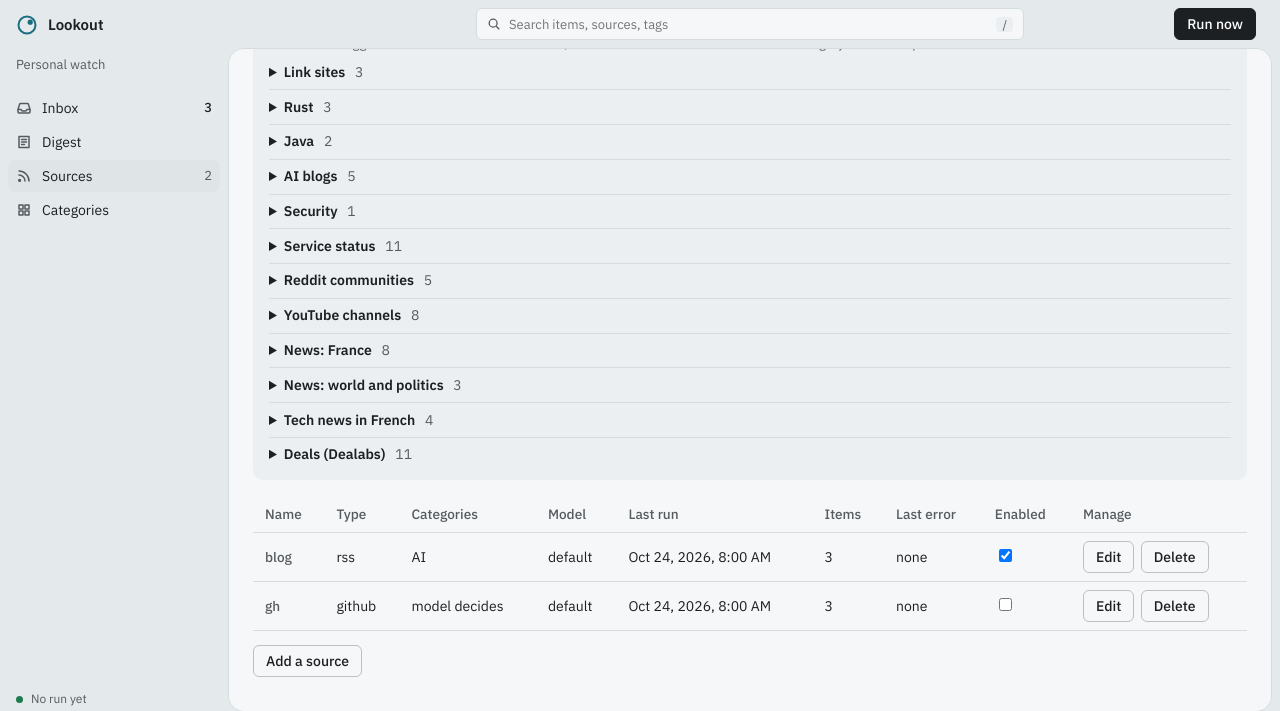
Test: sources › creates a category from the form, ticks it and files the source in it
(page scrolled)
Click the button "Add a source": (308, 661) [253,645,362,677]
(page scrolled)
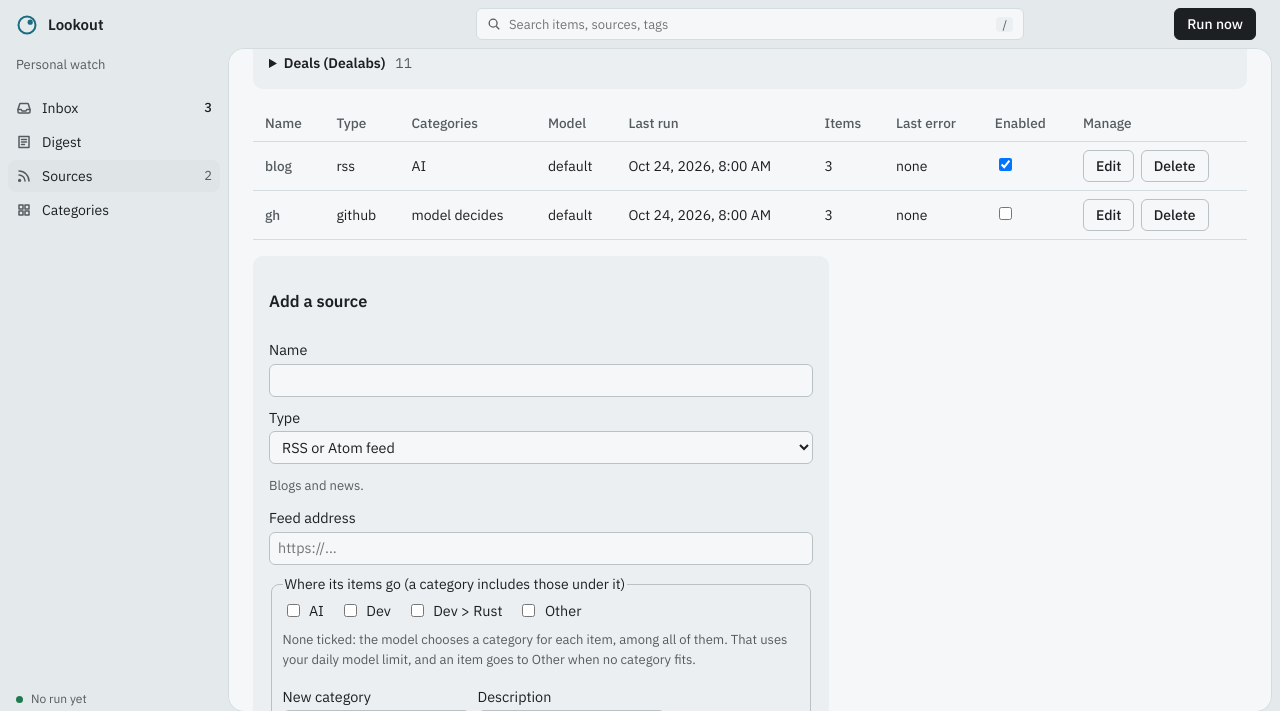
In the field labelled "Name": (541, 380) [269,364,813,397], type "moto"
In the field labelled "Feed address": (541, 548) [269,532,813,565], type "https://moto.test/feed"
(page scrolled)
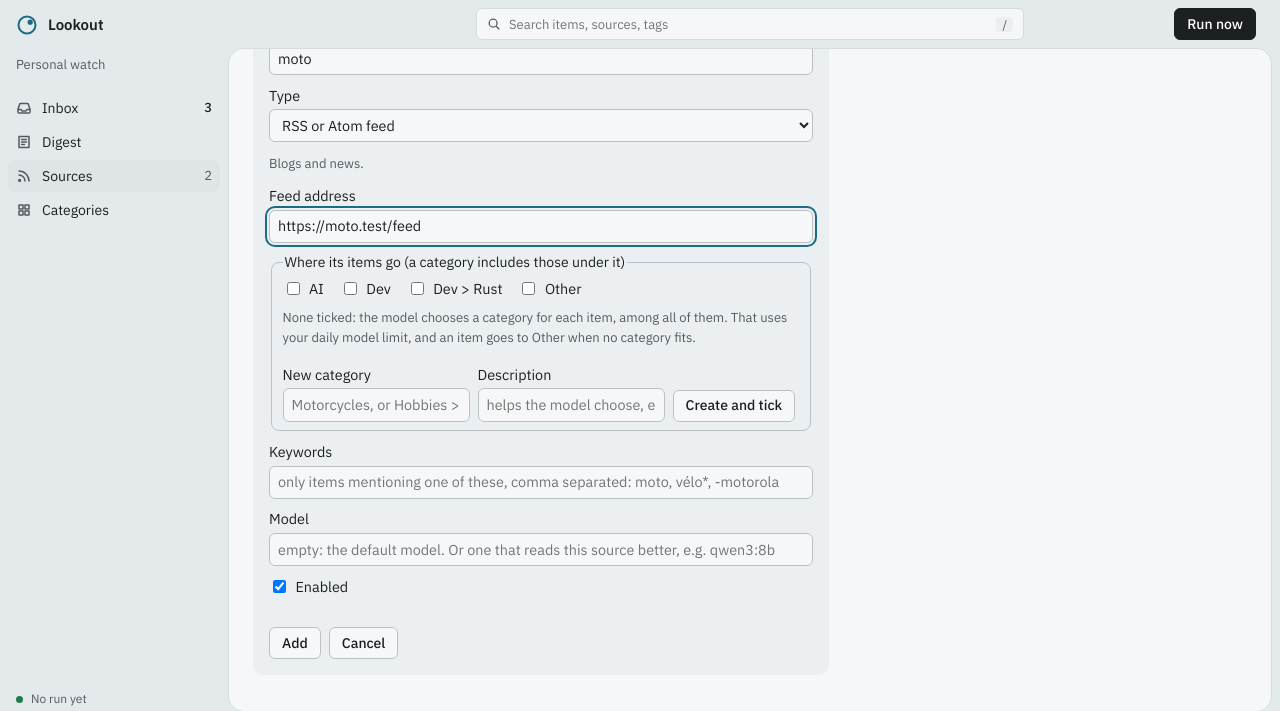
In the field labelled "New category": (376, 405) [282,388,470,422], type "Hobbies > Motorcycles"
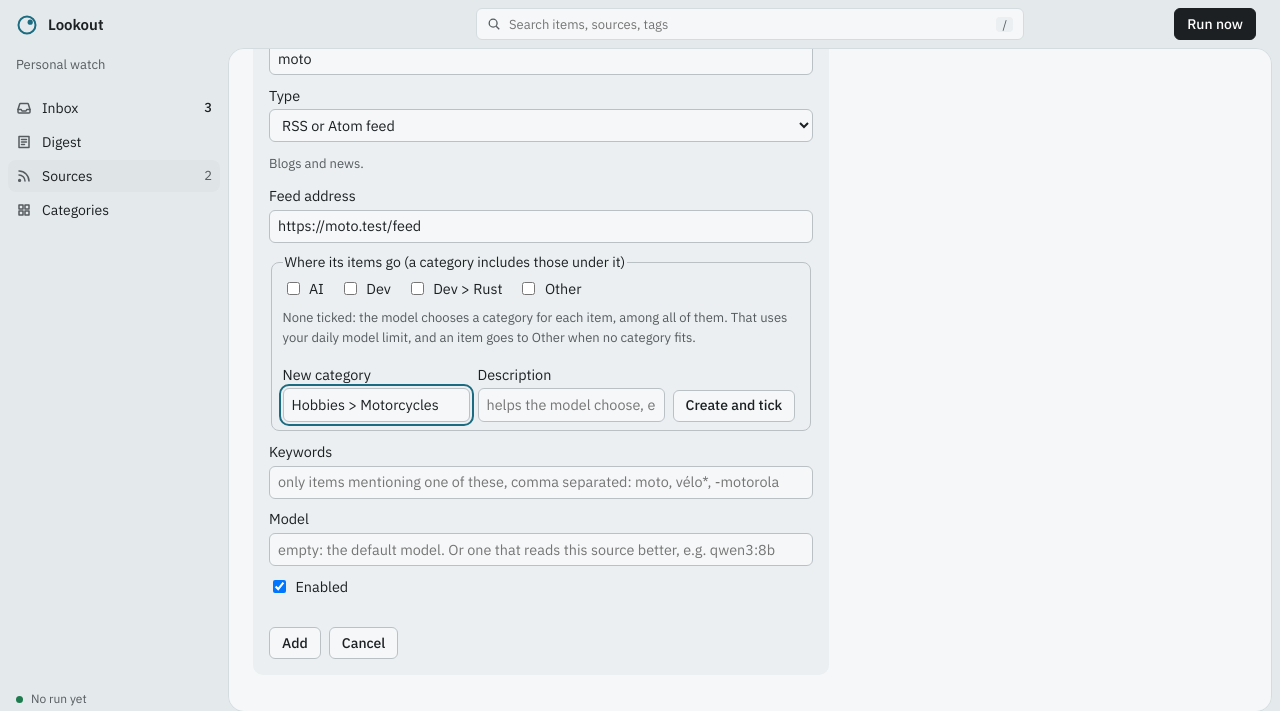
In the field labelled "Description": (571, 405) [478,388,664,422], type "riding and my CB750"
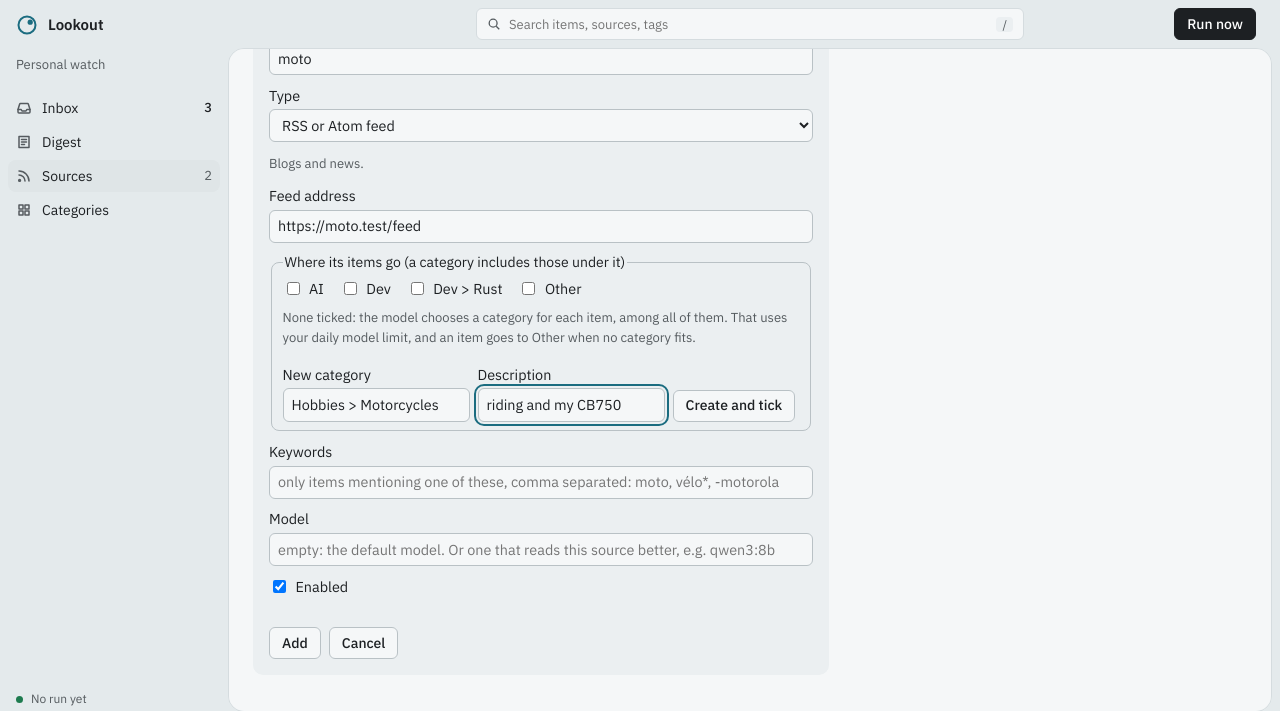
Click the button "Create and tick": (734, 406) [672,390,795,422]
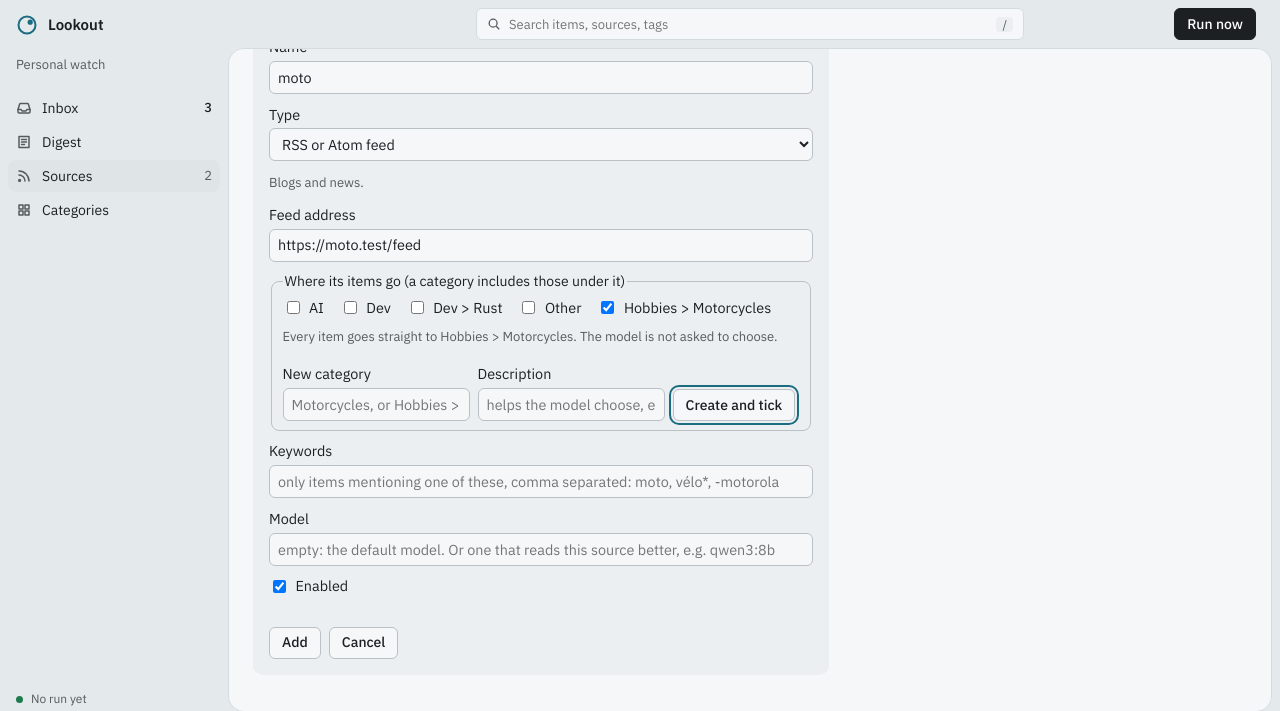
Expected: the checkbox labelled "Hobbies > Motorcycles" is checked, [602,302,614,314]
Expected: the field labelled "New category" is empty, [282,388,470,421]
Expected: the text "Every item goes straight to Hobbies > Motorcycles. The model is not asked to choose." is shown, [282,328,778,345]
Click the button "Add": (295, 643) [269,627,321,659]
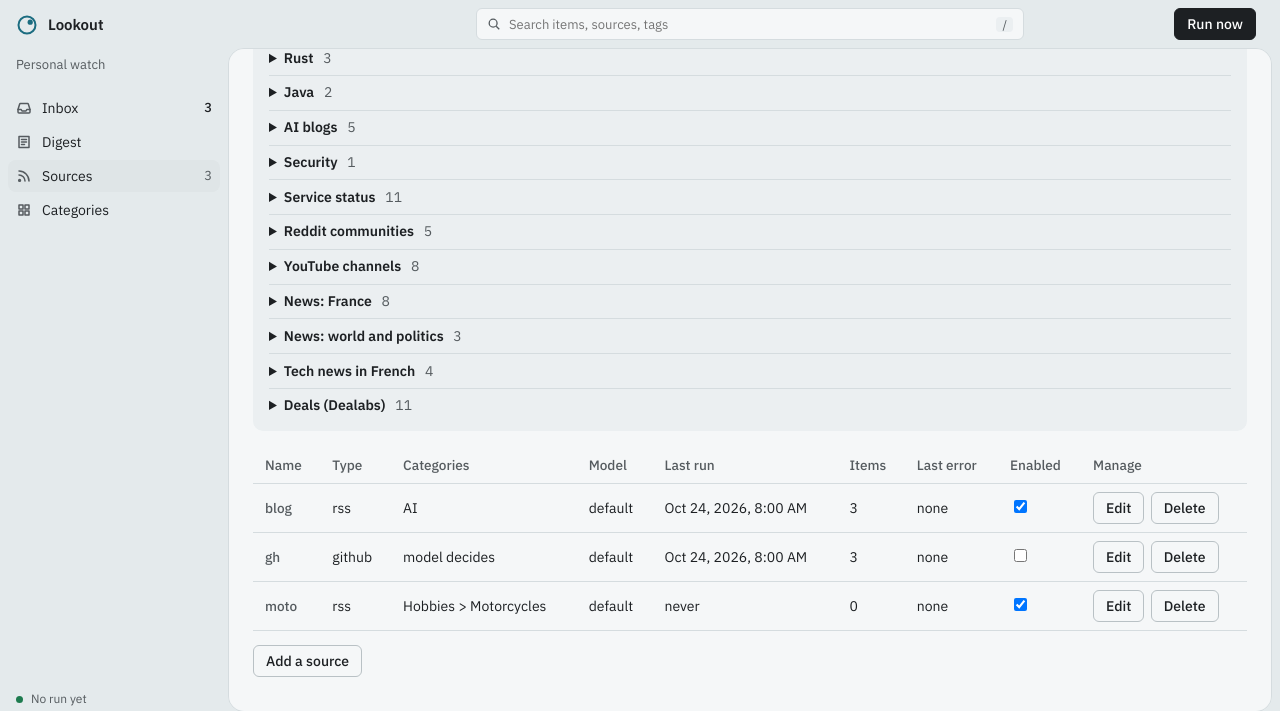
Expected: the row "moto" shows "Hobbies > Motorcycles", [403,597,546,615]
